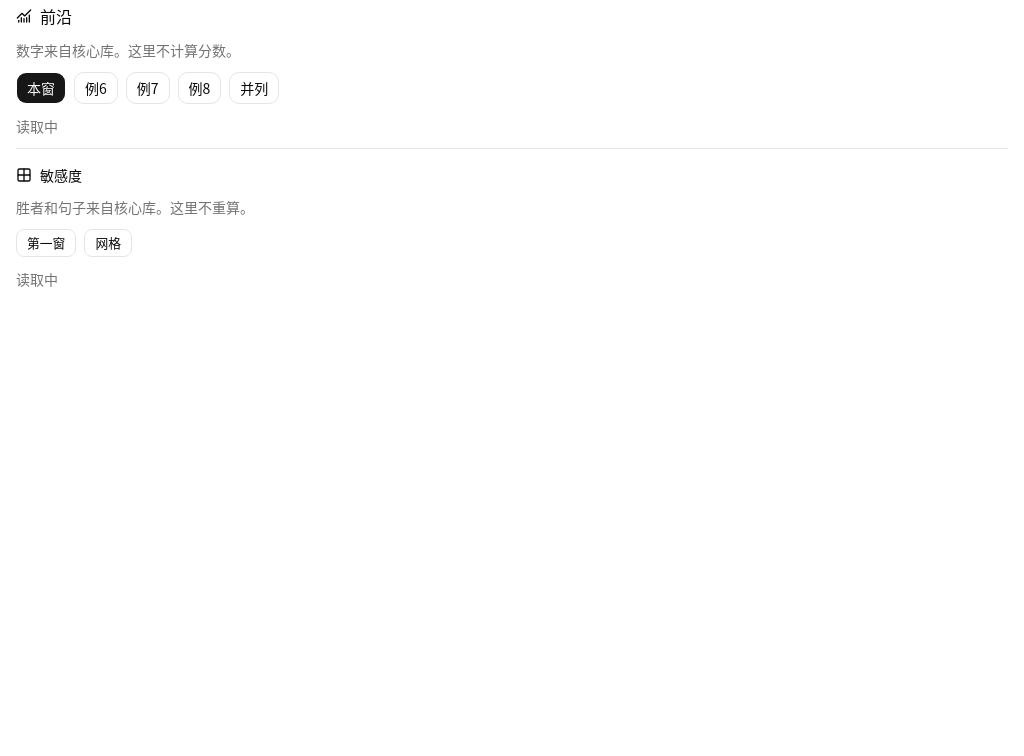
Test: a tie lists every official top id
Click the button "并列". click: (254, 88)
box: [229,72,279,104]
(page scrolled)
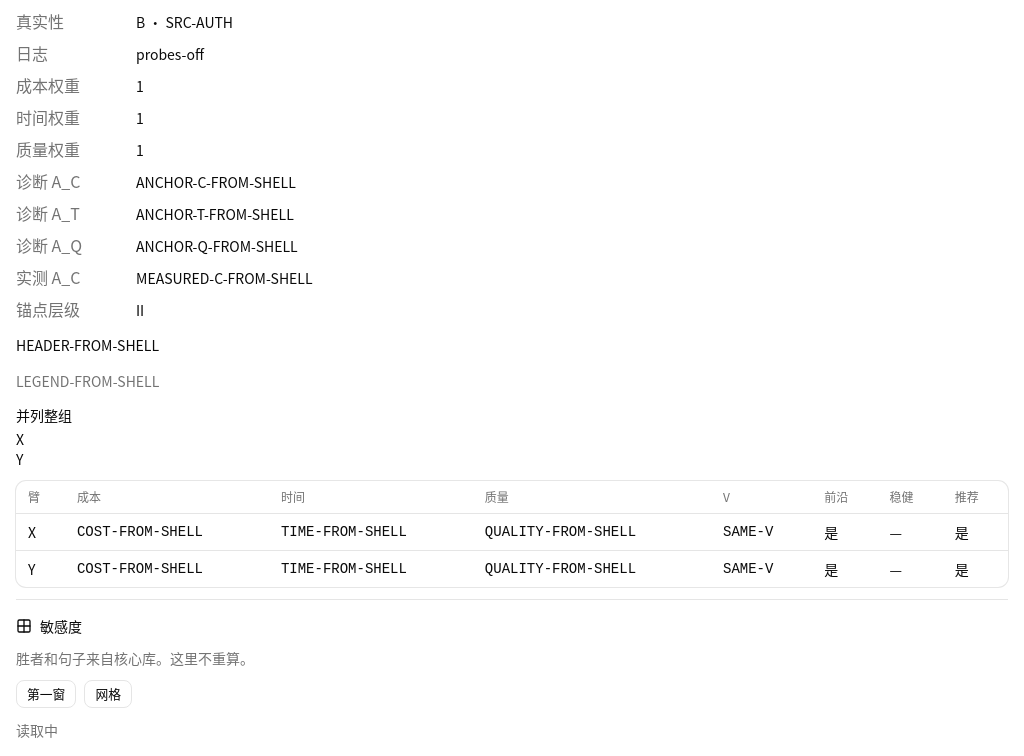
Expected: the text "并列整组" is shown, [16,405,72,425]
Expected: the list item "X" is shown, [16,429,24,449]
Expected: the list item "Y" is shown, [16,449,23,469]
